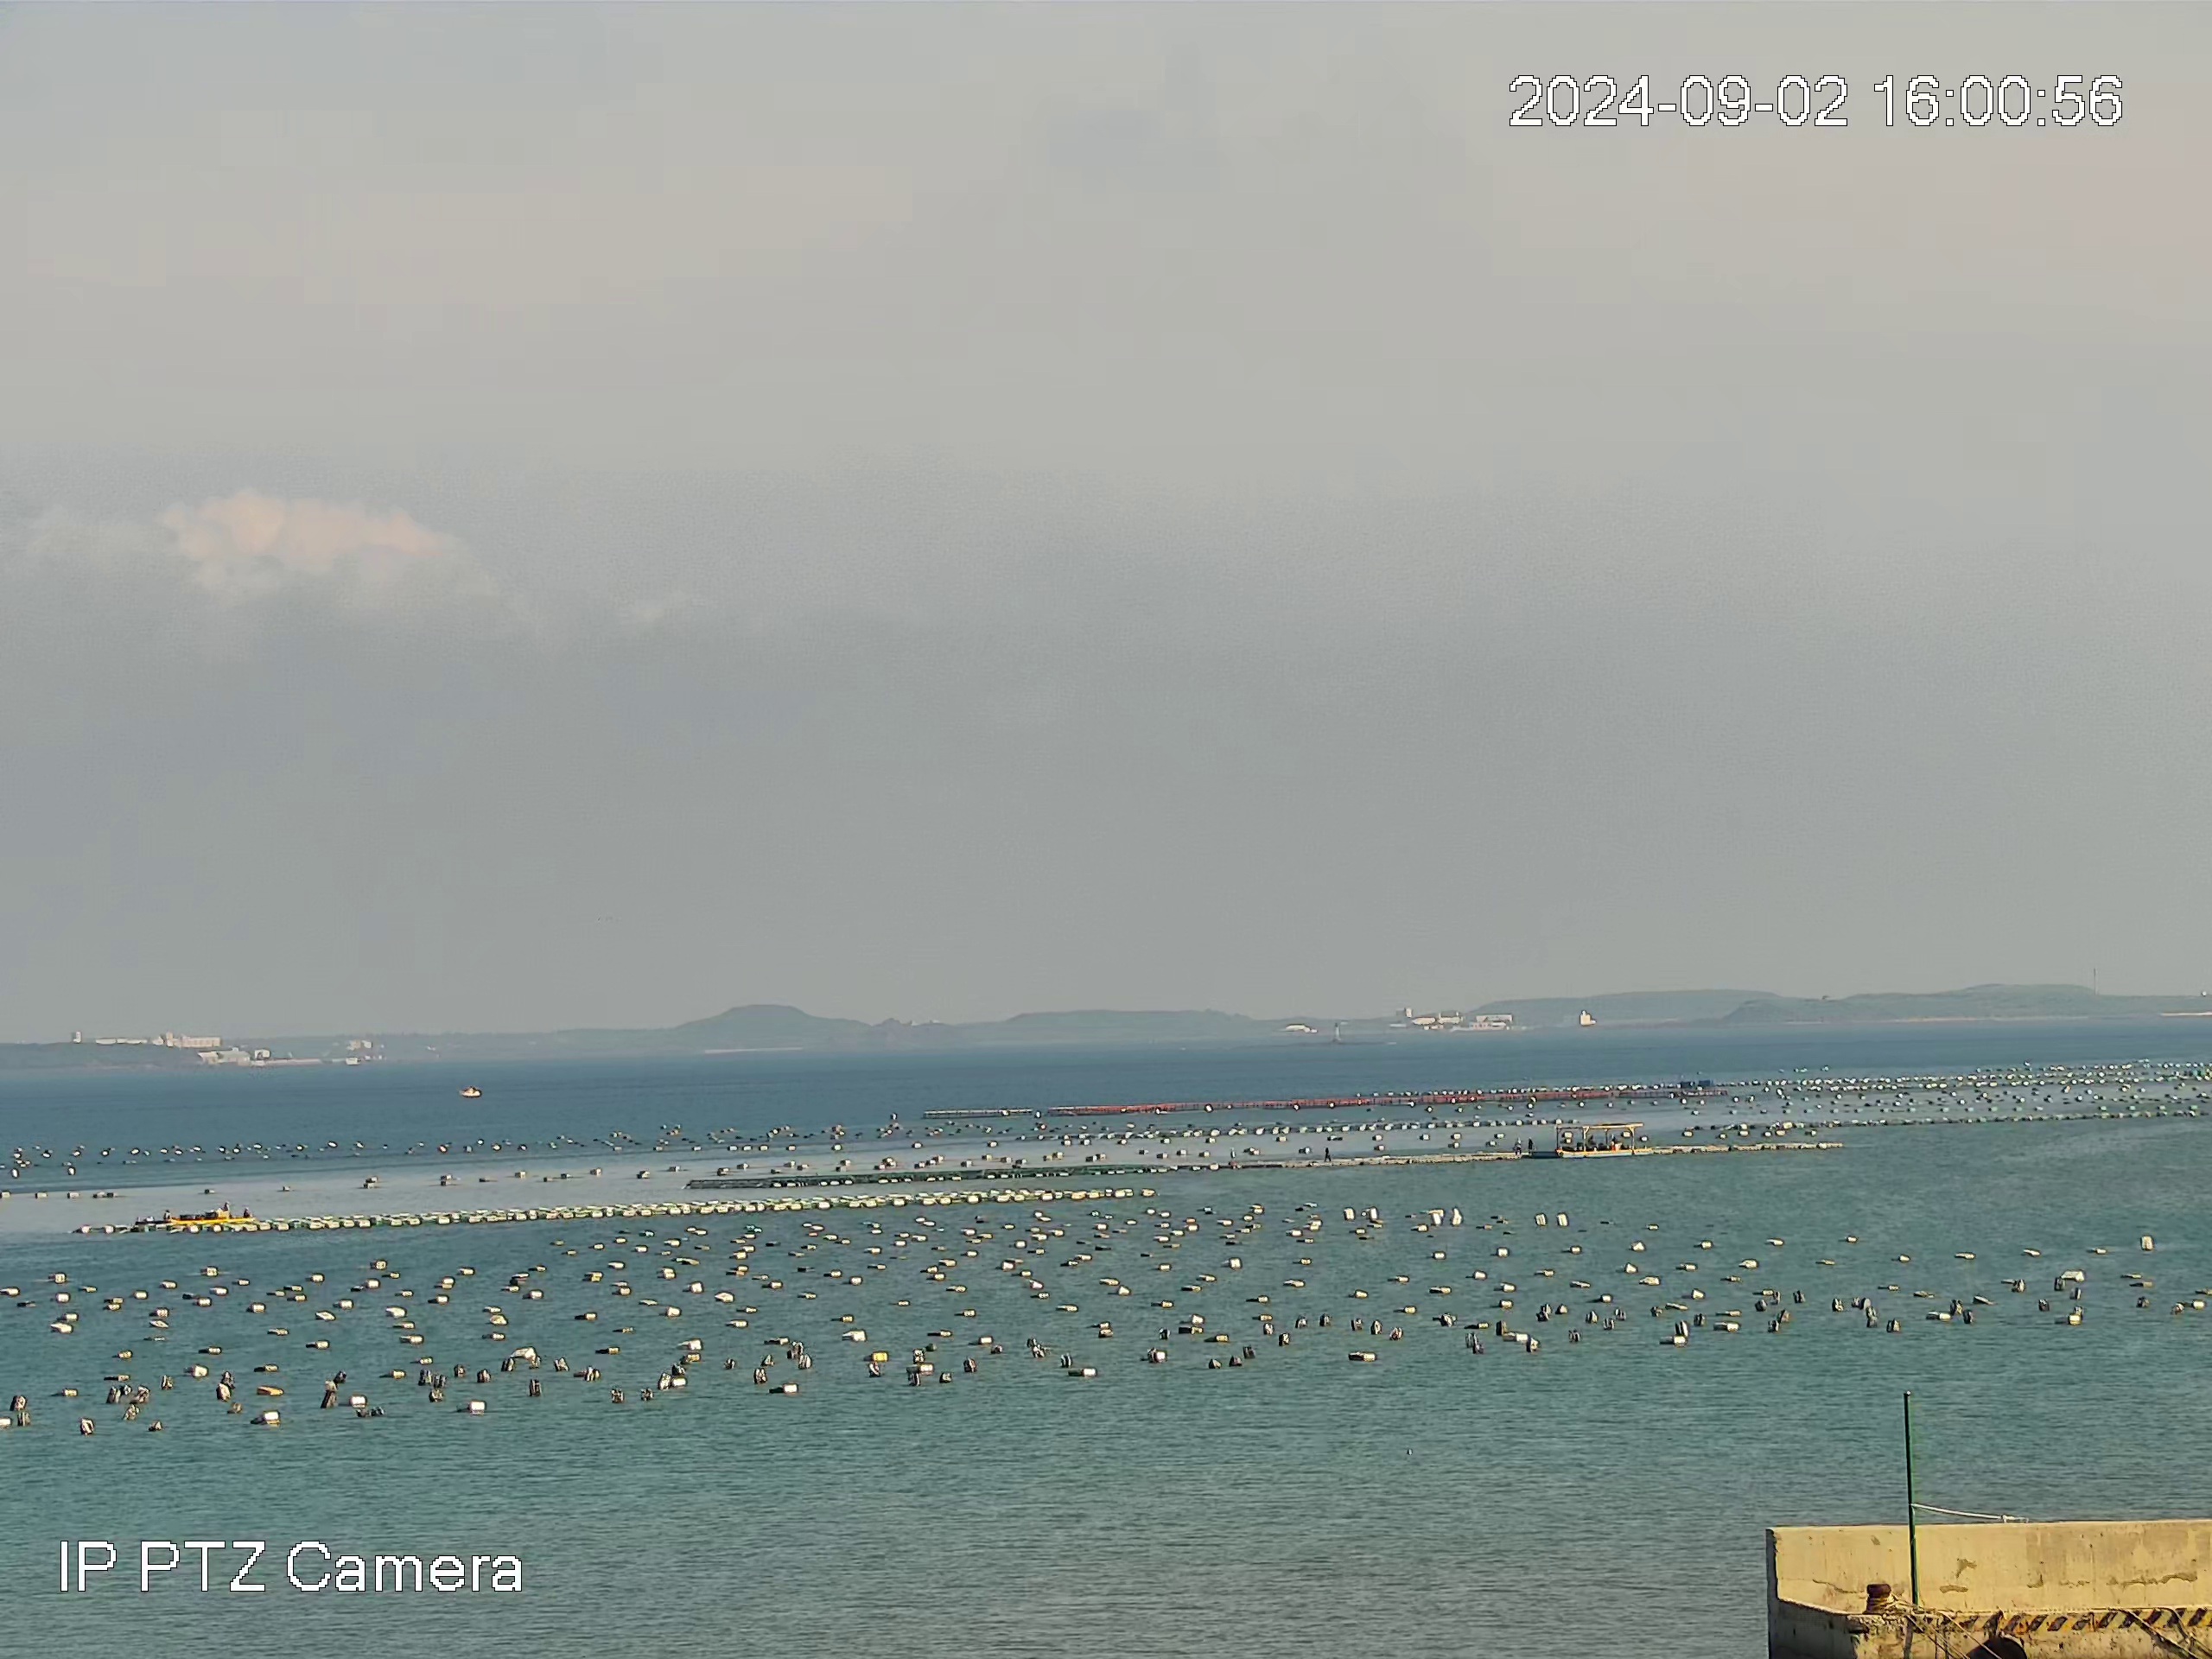boat: (1554, 1122, 1655, 1159), (134, 1201, 254, 1225), (456, 1084, 482, 1100)
